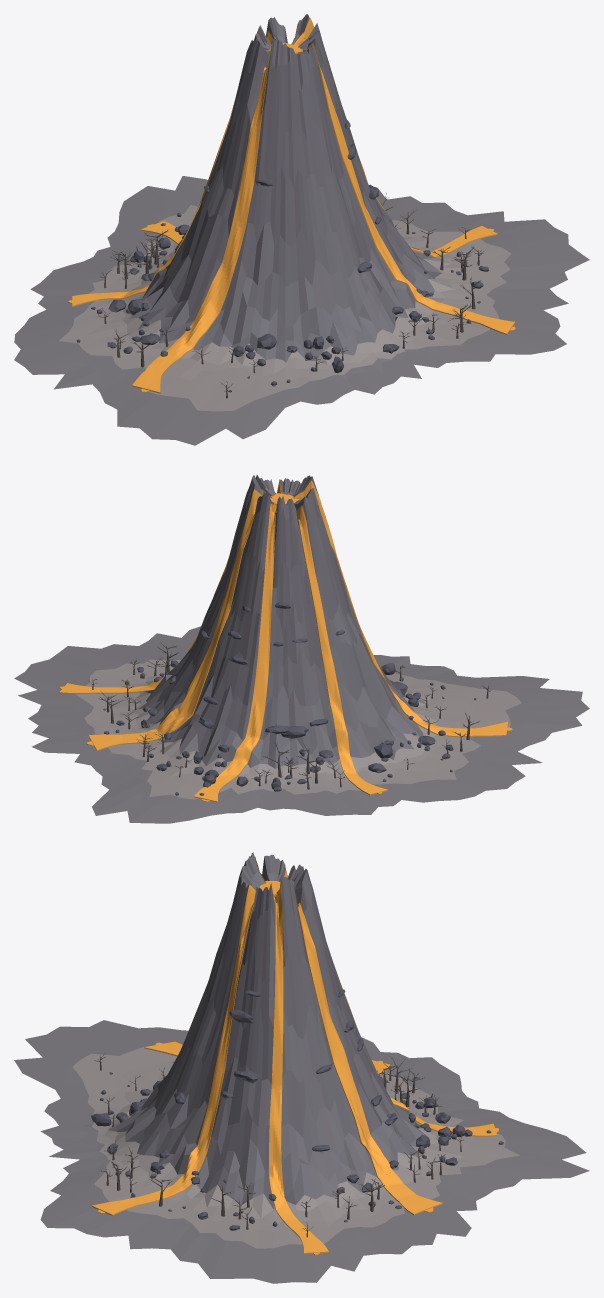
File: island_volcano.glb
3 views of the same model, one above another, from view 1: azimuth 30°, elevation 25°; view 2: azimuth 150°, elevation 25°; view 3: azimuth 270°, elevation 25° (orthographic). The views are drawn at different scales.
Parts seen in each view (by area): view 1: Volcano_Base, Volcano_Lava, Volcano_Rocks, Volcano_DeadTrees; view 2: Volcano_Base, Volcano_Lava, Volcano_Rocks, Volcano_DeadTrees; view 3: Volcano_Base, Volcano_Lava, Volcano_Rocks, Volcano_DeadTrees.
Part boxes in pixels (left/top/right/bottom): Volcano_Base: left=14, top=14, right=589, bottom=445; Volcano_Lava: left=68, top=18, right=515, bottom=393; Volcano_Rocks: left=76, top=120, right=488, bottom=392; Volcano_DeadTrees: left=96, top=193, right=484, bottom=398; Volcano_Base: left=14, top=475, right=589, bottom=823; Volcano_Lava: left=59, top=479, right=512, bottom=802; Volcano_Rocks: left=103, top=602, right=476, bottom=795; Volcano_DeadTrees: left=89, top=642, right=491, bottom=789; Volcano_Base: left=14, top=852, right=589, bottom=1283; Volcano_Lava: left=92, top=857, right=498, bottom=1255; Volcano_Rocks: left=91, top=989, right=503, bottom=1230; Volcano_DeadTrees: left=94, top=1052, right=463, bottom=1237.
Size of the model in its own units: 1912 by 932 by 1730.
